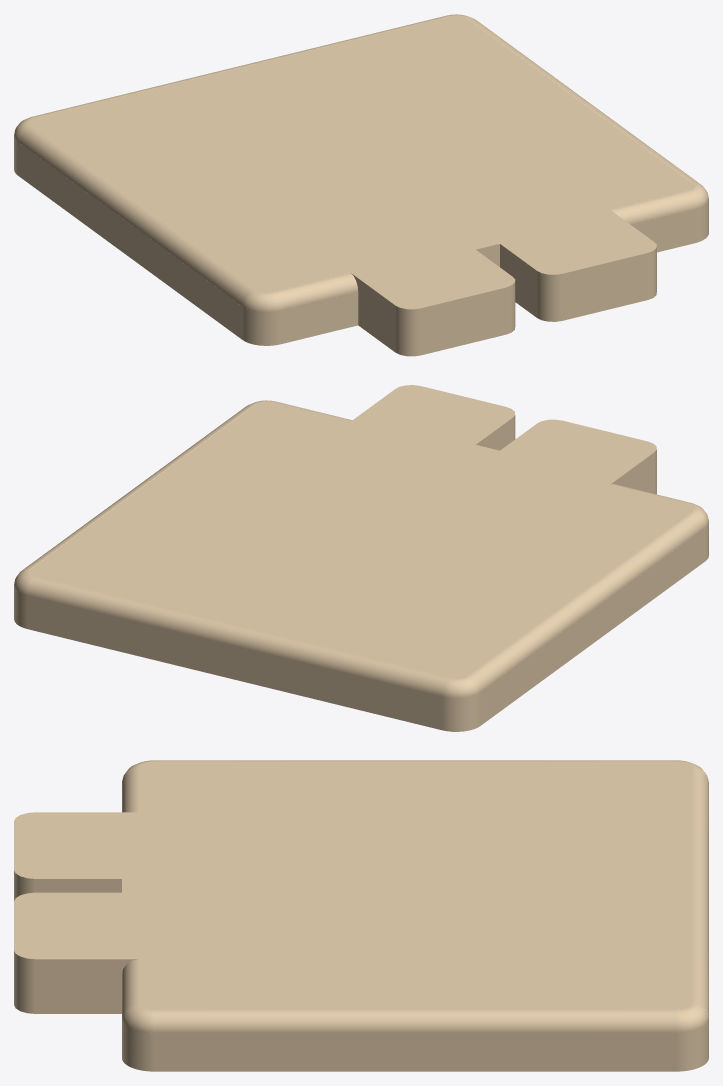
The model's file is ergoflex-side-shelf-small.glb.
The picture shows the model from 3 angles, top to bottom: view 1: azimuth 30°, elevation 25°; view 2: azimuth 150°, elevation 25°; view 3: azimuth 270°, elevation 25°; orthographic projection. The views are drawn at different scales.
Visible parts, largest first — view 1: Side shelf wood; view 2: Side shelf wood; view 3: Side shelf wood.
Part boxes in pixels (<box>): Side shelf wood: <box>14,14,708,356</box>; Side shelf wood: <box>14,385,708,731</box>; Side shelf wood: <box>14,760,708,1071</box>.
Bounding box in the file's own units: 0.1827 × 0.0178 × 0.2046.
